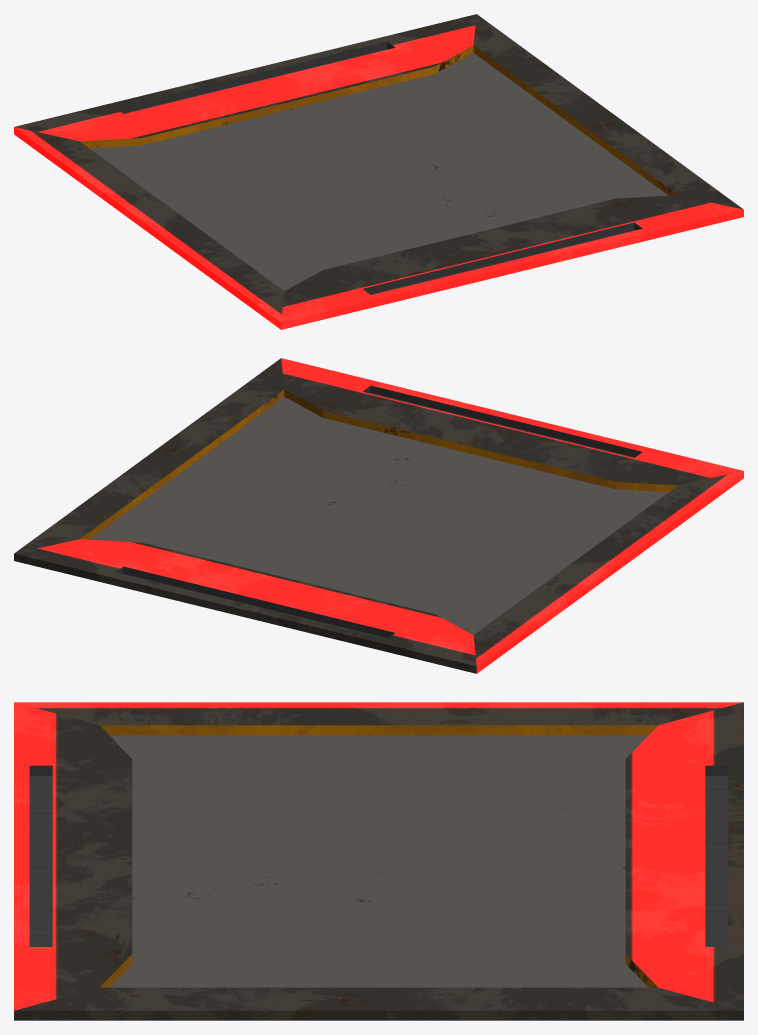
File: Floor_modular_4.fbx
3 views of the same model, one above another, from view 1: azimuth 30°, elevation 25°; view 2: azimuth 150°, elevation 25°; view 3: azimuth 270°, elevation 25° (orthographic). The views are drawn at different scales.
Parts seen in each view (by area): view 1: Plane; view 2: Plane; view 3: Plane.
Boxes of the visible parts, x1,y1,x2,y2 form: Plane: (14,14,743,329); Plane: (14,358,743,673); Plane: (14,702,743,1020).
Size of the model in its own units: 300 by 4.57 by 300.
